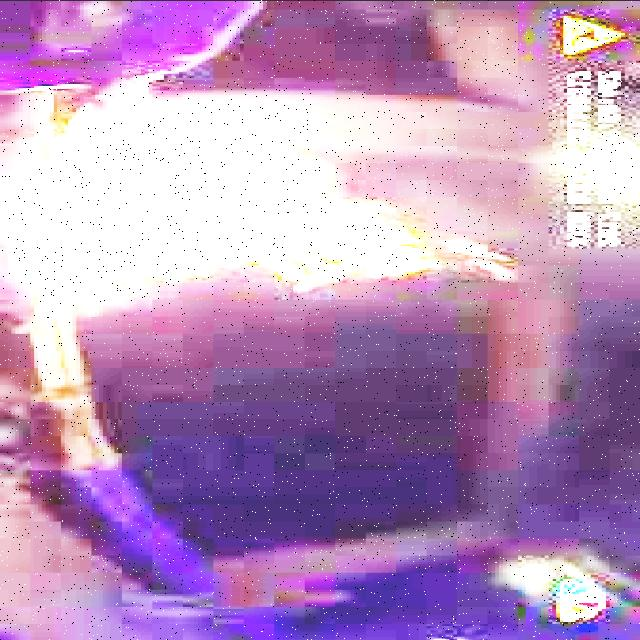api: (39, 106, 485, 322)
